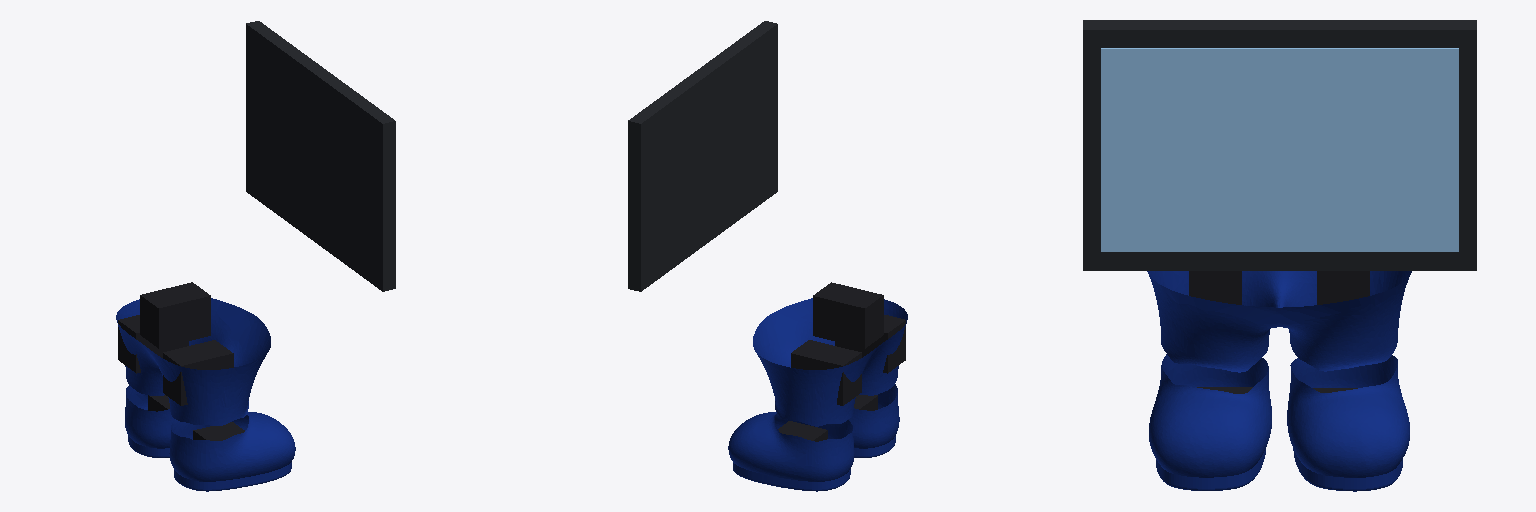
robot.urdf — haetburi:
<?xml version="1.0"?>
<!-- Haetburi biped (v11_newbase_display) - generated by tools/build_model.py, do not edit by hand -->
<robot name="haetburi">
  <mujoco>
    <compiler meshdir="." balanceinertia="true" discardvisual="false" strippath="false" fusestatic="false"/>
  </mujoco>
  <material name="display"><color rgba="0.18 0.19 0.21 1"/></material>
  <material name="screen"><color rgba="0.62 0.80 0.95 1"/></material>
  <material name="shell"><color rgba="0.106 0.216 0.541 1"/></material>
  <material name="motor"><color rgba="0.15 0.15 0.17 1"/></material>
  <material name="foot"><color rgba="0.25 0.25 0.28 1"/></material>
  <link name="world"/>
  <joint name="floating_base" type="floating">
    <parent link="world"/><child link="pelvis"/>
    <origin xyz="0 0 0" rpy="0 0 0"/>
  </joint>
  <link name="pelvis">
    <inertial>
      <origin xyz="0.0175474 -7.32402e-05 0.0167" rpy="0 0 0"/>
      <mass value="0.536641"/>
      <inertia ixx="0.000314489" ixy="-1.02048e-06" ixz="-1.2315e-05" iyy="0.000345732" iyz="8.43513e-08" izz="0.000590502"/>
    </inertial>
    <visual><origin xyz="0 0 0" rpy="0 0 0"/><geometry><mesh filename="meshes/pelvis.stl"/></geometry><material name="shell"/></visual>
    <visual><origin xyz="-0.0119963 0.0340197 0.0195" rpy="0 0 0"/><geometry><box size="0.0465 0.0285 0.034"/></geometry><material name="motor"/></visual>
    <visual><origin xyz="-0.0120037 -0.0344395 0.0195" rpy="0 0 0"/><geometry><box size="0.0465 0.0285 0.034"/></geometry><material name="motor"/></visual>
    <collision><origin xyz="0.00914942 -0.000261546 0.018445" rpy="0 0 0"/><geometry><box size="0.100985 0.143996 0.03689"/></geometry></collision>
  </link>
  <link name="torso">
    <inertial>
      <origin xyz="0.0119712 0.000196608 0.234971" rpy="0 0 0"/>
      <mass value="3.45527"/>
      <inertia ixx="0.102355" ixy="-0.000387687" ixz="0.0114402" iyy="0.106829" iyz="-0.000340856" izz="0.0542465"/>
    </inertial>
    <visual><origin xyz="0 0 0" rpy="0 0 0"/><geometry><mesh filename="meshes/torso.stl"/></geometry><material name="shell"/></visual>
    <visual><origin xyz="-0.012 0 0.0175" rpy="0 0 0"/><geometry><box size="0.0465 0.0285 0.034"/></geometry><material name="motor"/></visual>
    <visual><origin xyz="0.116743 0 0.122317" rpy="0 0 0"/><geometry><box size="0.0115 0.2105 0.1423"/></geometry><material name="display"/></visual>
    <visual><origin xyz="0.122493 0 0.122317" rpy="0 0 0"/><geometry><box size="0.0004 0.192 0.12"/></geometry><material name="screen"/></visual>
    <collision><origin xyz="-0.0202093 -1.69977e-06 0.0756888" rpy="0 0 0"/><geometry><box size="0.32241 0.172541 0.169892"/></geometry></collision>
    <collision><origin xyz="0.0661878 0.111106 0.11628" rpy="0 0 0"/><geometry><sphere radius="0.0879747"/></geometry></collision>
    <collision><origin xyz="0.0666454 -0.111311 0.116106" rpy="0 0 0"/><geometry><sphere radius="0.0878001"/></geometry></collision>
    <collision><origin xyz="-0.00830768 0.000424862 0.198833" rpy="0 0 0"/><geometry><sphere radius="0.165795"/></geometry></collision>
    <collision><origin xyz="-0.0144764 -0.00019533 0.275177" rpy="0 0 0"/><geometry><sphere radius="0.191278"/></geometry></collision>
    <collision><origin xyz="-0.0220435 -0.000322386 0.351535" rpy="0 0 0"/><geometry><sphere radius="0.189062"/></geometry></collision>
    <collision><origin xyz="-0.0172931 0.00136186 0.427888" rpy="0 0 0"/><geometry><sphere radius="0.164397"/></geometry></collision>
    <collision><origin xyz="-0.0102328 0.0107795 0.504289" rpy="0 0 0"/><geometry><sphere radius="0.117177"/></geometry></collision>
    <collision><origin xyz="-0.0187531 -0.00356288 0.580622" rpy="0 0 0"/><geometry><sphere radius="0.0680012"/></geometry></collision>
    <collision><origin xyz="0.116743 0 0.122317" rpy="0 0 0"/><geometry><box size="0.0115 0.2105 0.1423"/></geometry></collision>
  </link>
  <link name="leg_l">
    <inertial>
      <origin xyz="-0.000470057 -0.000169539 -0.0296694" rpy="0 0 0"/>
      <mass value="0.0625673"/>
      <inertia ixx="2.59686e-05" ixy="-2.31484e-08" ixz="5.07106e-07" iyy="2.21211e-05" iyz="2.27217e-07" izz="2.01825e-05"/>
    </inertial>
    <visual><origin xyz="0 0 0" rpy="0 0 0"/><geometry><mesh filename="meshes/leg_l.stl"/></geometry><material name="shell"/></visual>
    <collision><origin xyz="-7.8706e-07 -1.08503e-05 -0.00849725" rpy="0 0 0"/><geometry><box size="0.0648948 0.0594546 0.0169945"/></geometry></collision>
  </link>
  <link name="foot_l">
    <inertial>
      <origin xyz="0.0012255 0.0107441 -0.00186089" rpy="0 0 0"/>
      <mass value="0.149794"/>
      <inertia ixx="7.17079e-05" ixy="-3.21363e-06" ixz="-6.7791e-07" iyy="9.76424e-05" iyz="-2.83098e-06" izz="0.000118926"/>
    </inertial>
    <visual><origin xyz="0 0 0" rpy="0 0 0"/><geometry><mesh filename="meshes/foot_l.stl"/></geometry><material name="shell"/></visual>
    <visual><origin xyz="0 0.012 7.34788e-19" rpy="0 0 0"/><geometry><box size="0.034 0.0465 0.0285"/></geometry><material name="motor"/></visual>
    <collision><origin xyz="0 0 0" rpy="0 0 0"/><geometry><mesh filename="meshes/foot_l.stl"/></geometry></collision>
  </link>
  <link name="leg_r">
    <inertial>
      <origin xyz="-0.000351561 0.000195358 -0.0295195" rpy="0 0 0"/>
      <mass value="0.0627758"/>
      <inertia ixx="2.62581e-05" ixy="-9.16334e-08" ixz="3.9612e-07" iyy="2.21735e-05" iyz="-2.61945e-07" izz="2.03678e-05"/>
    </inertial>
    <visual><origin xyz="0 0 0" rpy="0 0 0"/><geometry><mesh filename="meshes/leg_r.stl"/></geometry><material name="shell"/></visual>
    <collision><origin xyz="1.87959e-06 1.72012e-05 -0.00838829" rpy="0 0 0"/><geometry><box size="0.0648423 0.0595689 0.0167766"/></geometry></collision>
  </link>
  <link name="foot_r">
    <inertial>
      <origin xyz="0.00229683 -0.0109198 -0.00191251" rpy="0 0 0"/>
      <mass value="0.149486"/>
      <inertia ixx="7.13723e-05" ixy="3.63287e-06" ixz="-7.75189e-07" iyy="9.77393e-05" iyz="2.88465e-06" izz="0.000119138"/>
    </inertial>
    <visual><origin xyz="0 0 0" rpy="0 0 0"/><geometry><mesh filename="meshes/foot_r.stl"/></geometry><material name="shell"/></visual>
    <visual><origin xyz="0 -0.012 7.34788e-19" rpy="0 0 0"/><geometry><box size="0.034 0.0465 0.0285"/></geometry><material name="motor"/></visual>
    <collision><origin xyz="0 0 0" rpy="0 0 0"/><geometry><mesh filename="meshes/foot_r.stl"/></geometry></collision>
  </link>
  <joint name="waist_yaw" type="revolute">
    <parent link="pelvis"/><child link="torso"/>
    <origin xyz="0 0 0.03689" rpy="0 0 0"/>
    <axis xyz="0 0 1"/>
    <limit lower="-1.0472" upper="1.0472" effort="1.4" velocity="5.97"/>
    <dynamics damping="0.1" friction="0.04"/>
  </joint>
  <joint name="hip_yaw_l" type="revolute">
    <parent link="pelvis"/><child link="leg_l"/>
    <origin xyz="3.66423e-06 0.0340197 0" rpy="0 0 0"/>
    <axis xyz="0 0 1"/>
    <limit lower="-0.523599" upper="0.523599" effort="1.4" velocity="5.97"/>
    <dynamics damping="0.1" friction="0.04"/>
  </joint>
  <joint name="hip_yaw_r" type="revolute">
    <parent link="pelvis"/><child link="leg_r"/>
    <origin xyz="-3.66423e-06 -0.0344395 0" rpy="0 0 0"/>
    <axis xyz="0 0 1"/>
    <limit lower="-0.523599" upper="0.523599" effort="1.4" velocity="5.97"/>
    <dynamics damping="0.1" friction="0.04"/>
  </joint>
  <joint name="ankle_roll_l" type="revolute">
    <parent link="leg_l"/><child link="foot_l"/>
    <origin xyz="0.0152101 -0.00934904 -0.0537575" rpy="0 0 0"/>
    <axis xyz="1 0 0"/>
    <limit lower="-0.261799" upper="0.261799" effort="1.4" velocity="5.97"/>
    <dynamics damping="0.1" friction="0.04"/>
  </joint>
  <joint name="ankle_roll_r" type="revolute">
    <parent link="leg_r"/><child link="foot_r"/>
    <origin xyz="0.0129966 0.0096597 -0.0537575" rpy="0 0 0"/>
    <axis xyz="1 0 0"/>
    <limit lower="-0.261799" upper="0.261799" effort="1.4" velocity="5.97"/>
    <dynamics damping="0.1" friction="0.04"/>
  </joint>
</robot>

--- Facts derived from the render (not from the file) ---
The picture shows the robot from 3 angles, left to right: view 1: azimuth 30°, elevation 25°; view 2: azimuth 150°, elevation 25°; view 3: azimuth 270°, elevation 25°; orthographic projection.
Robot: haetburi — 7 links, 6 joints (5 revolute, 1 floating); root link world; default pose: every joint at zero.
Visible links, largest first — view 1: torso, pelvis, foot_r, foot_l, leg_r, leg_l; view 2: torso, pelvis, foot_l, foot_r, leg_l, leg_r; view 3: torso, pelvis, foot_l, foot_r, leg_r, leg_l.
Boxes of the visible links, box(x1,y1,x2,y2) form: torso: box(140, 21, 395, 348); pelvis: box(116, 298, 270, 409); foot_r: box(169, 412, 295, 491); foot_l: box(125, 386, 174, 457); leg_r: box(168, 395, 249, 425); leg_l: box(125, 366, 164, 395); torso: box(628, 21, 883, 348); pelvis: box(753, 298, 907, 409); foot_l: box(728, 412, 854, 491); foot_r: box(848, 384, 899, 457); leg_l: box(774, 395, 855, 426); leg_r: box(859, 366, 898, 395); torso: box(1083, 20, 1476, 270); pelvis: box(1147, 271, 1411, 348); foot_l: box(1287, 355, 1409, 491); foot_r: box(1149, 354, 1271, 490); leg_r: box(1160, 299, 1269, 372); leg_l: box(1289, 299, 1398, 371).
Size in the robot's own frame: 0.164 by 0.2105 by 0.3015 metres.
Meshes: 6 distinct files referenced, 5 mesh visuals loaded (5 binary STL); not drawn: 1 (reference not matched to a file when rendering).
